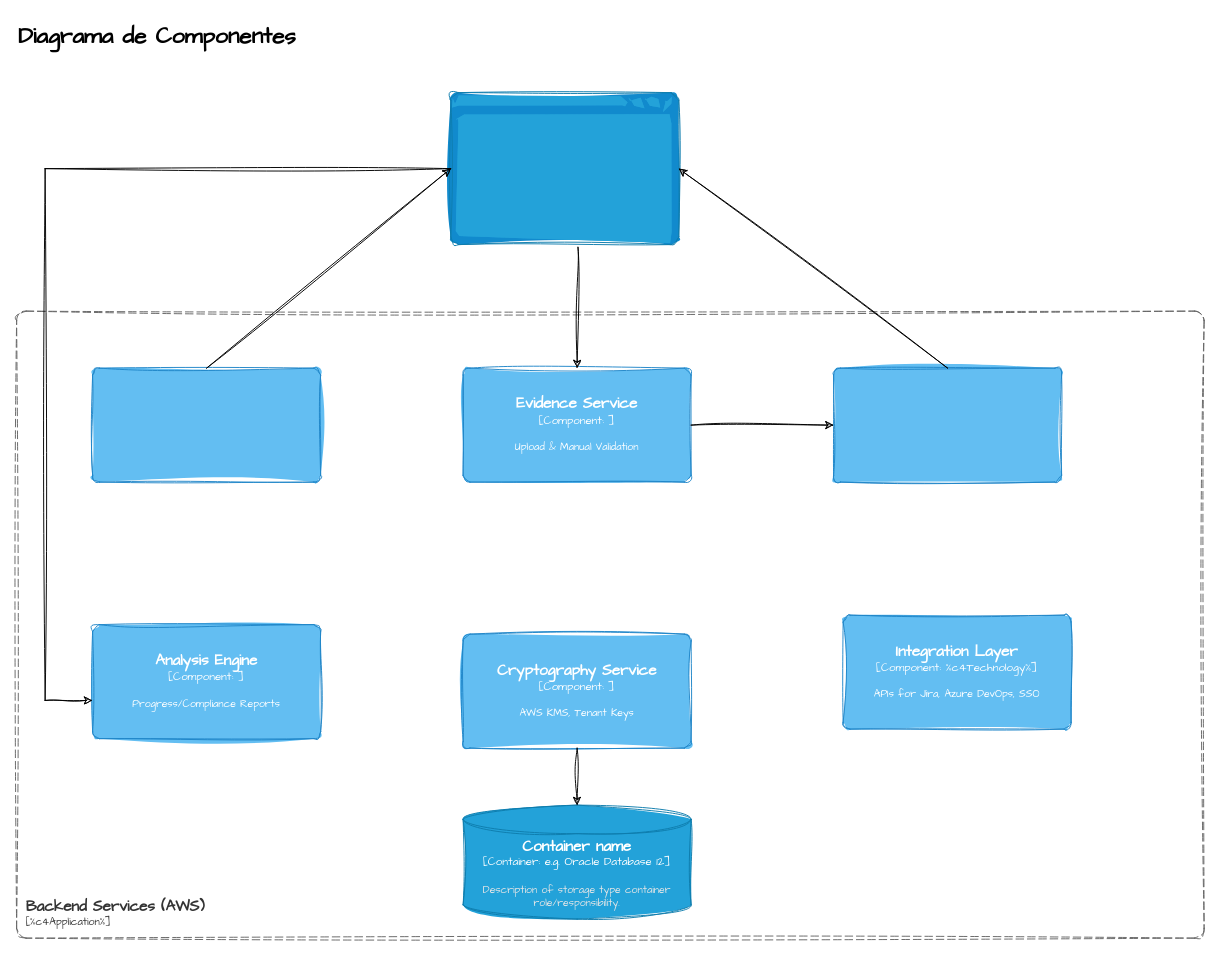
Image size: 1221x955. Some labels were removed from this diagram. Here are the shapes that lost their labels. From the top down, the centre of each, then its label:
At point 564,168: "Single Page aplication [Container: %c4Technology%] %c4Description%".
At point 206,424: "Recommendation Engine [Component: ] Rules/ML-based, Control Lists".
At point 947,424: "Notification Service [Component: e.g. Spring Service] Email/Slack Alerts".
